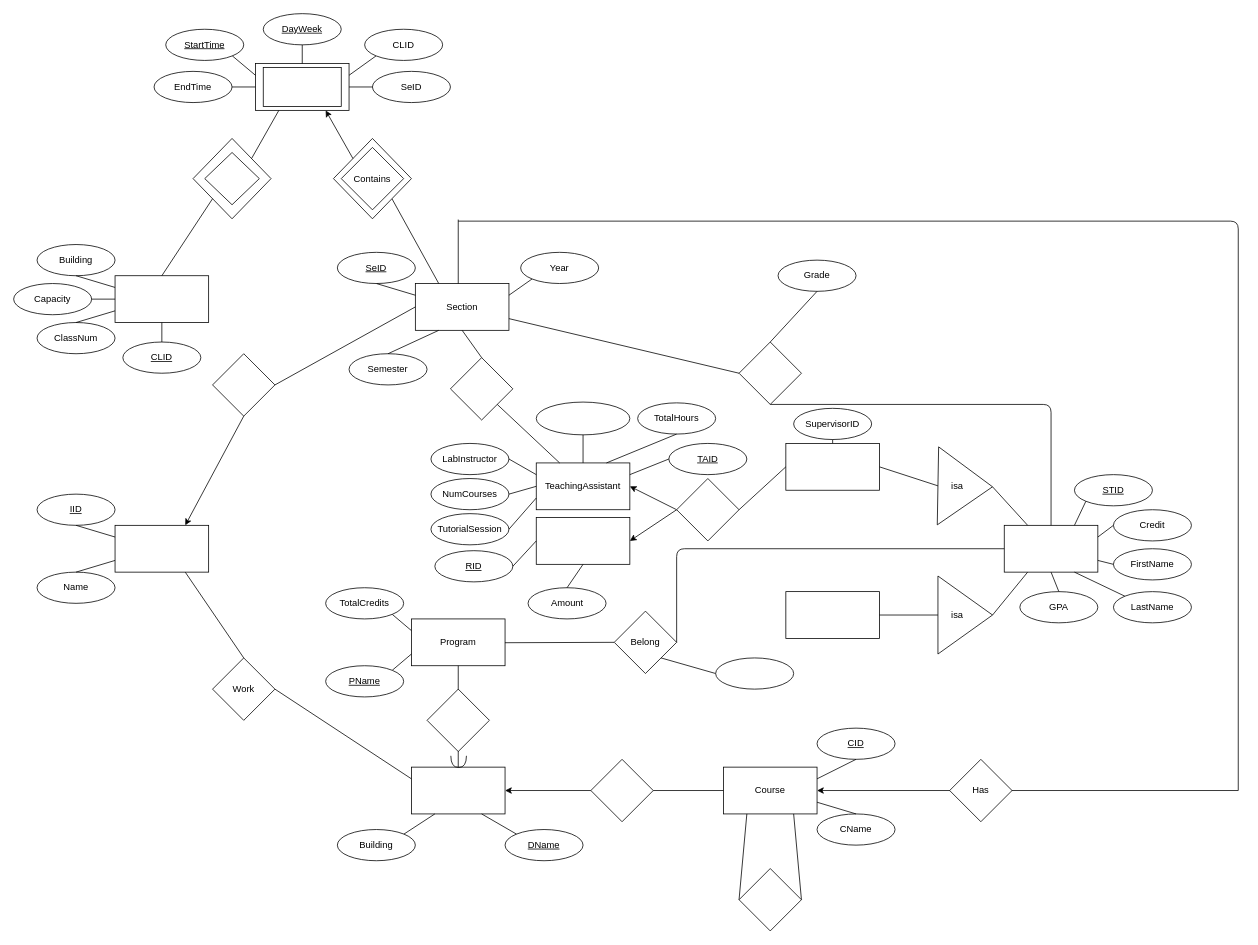
The diagram is 1258 pixels wide and 945 high, and some of its shapes have lost their labels. The shapes that lost their labels are listed below. From the top down, each one's box as (x1, y1, x2, y2) in pixels, then its label:
(262, 67, 341, 106): Classtimeslot
(204, 152, 259, 205): Schedule
(114, 275, 209, 323): Class
(212, 353, 275, 416): Teach
(450, 357, 513, 420): AssignedTo
(738, 341, 801, 404): EnrolledIn
(535, 401, 630, 435): AssignmentMarking
(785, 443, 879, 490): Graduate
(676, 478, 739, 541): Fund
(114, 525, 209, 572): Instructor
(535, 517, 630, 564): ResearchFunding
(1003, 525, 1098, 572): Student
(785, 591, 879, 638): Undergraduate
(715, 657, 794, 689): Advisor
(426, 688, 489, 752): Under
(411, 766, 505, 814): Department
(590, 759, 653, 822): Within
(738, 868, 801, 931): Prereq-Follow
